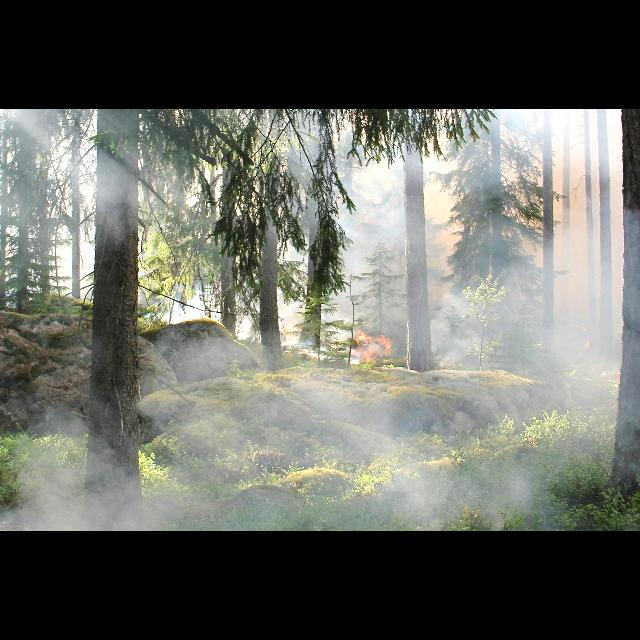smoke: (0, 500, 170, 532), (28, 138, 60, 293)
